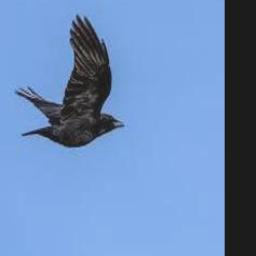Crow: (15, 15, 125, 146)
